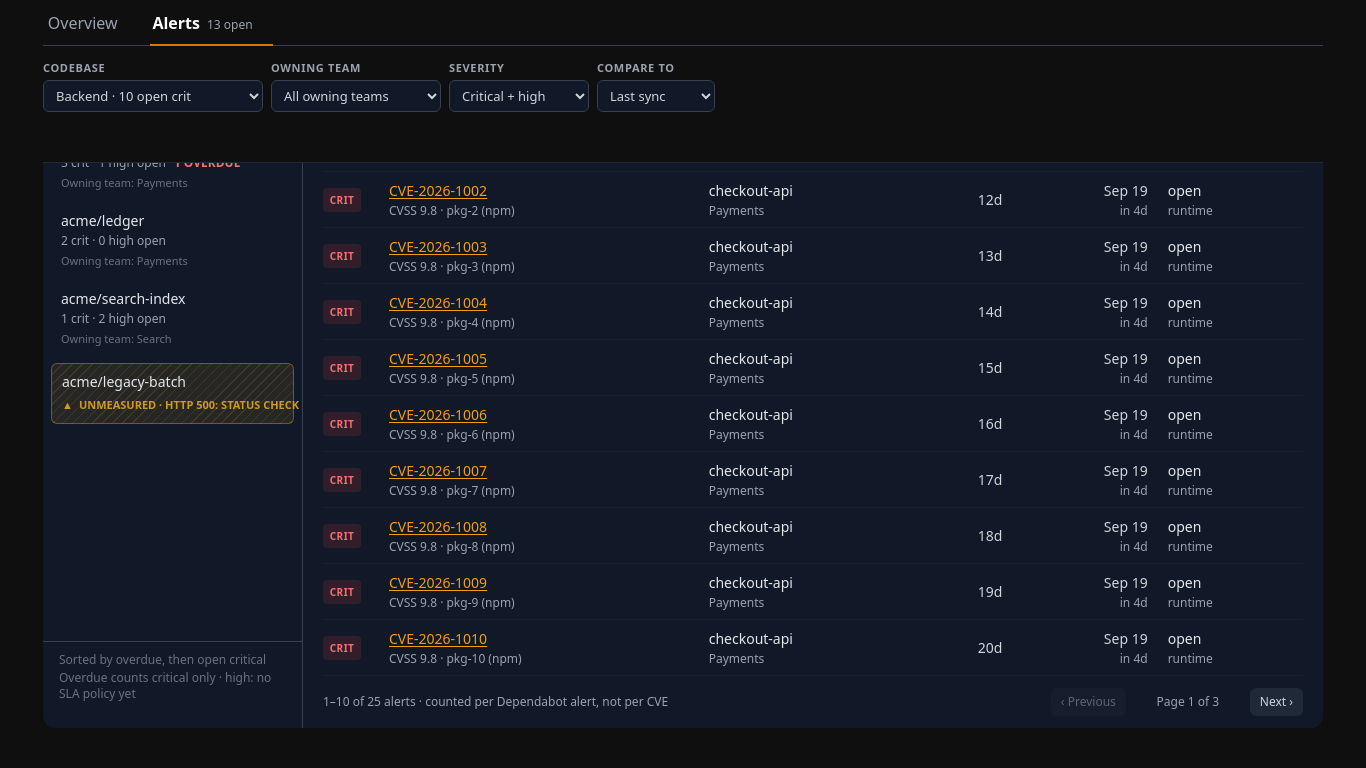
it: paging, sorting and the list parameters › a page past the end after the result shrank lands on the last page
(page scrolled)
Click the button "Next ›".
click(1276, 702)  # box [1250,688,1303,716]
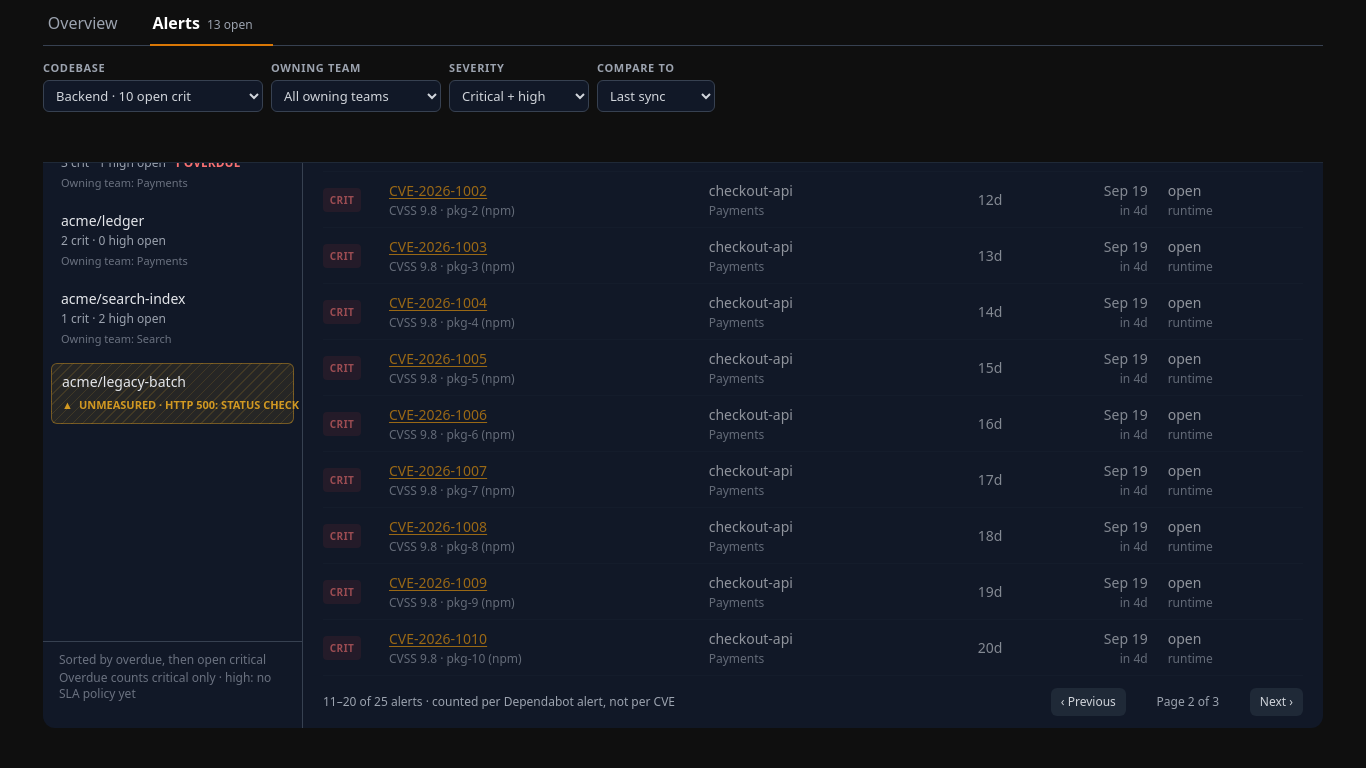
Click the button "Next ›".
click(1276, 702)  # box [1250,688,1303,716]
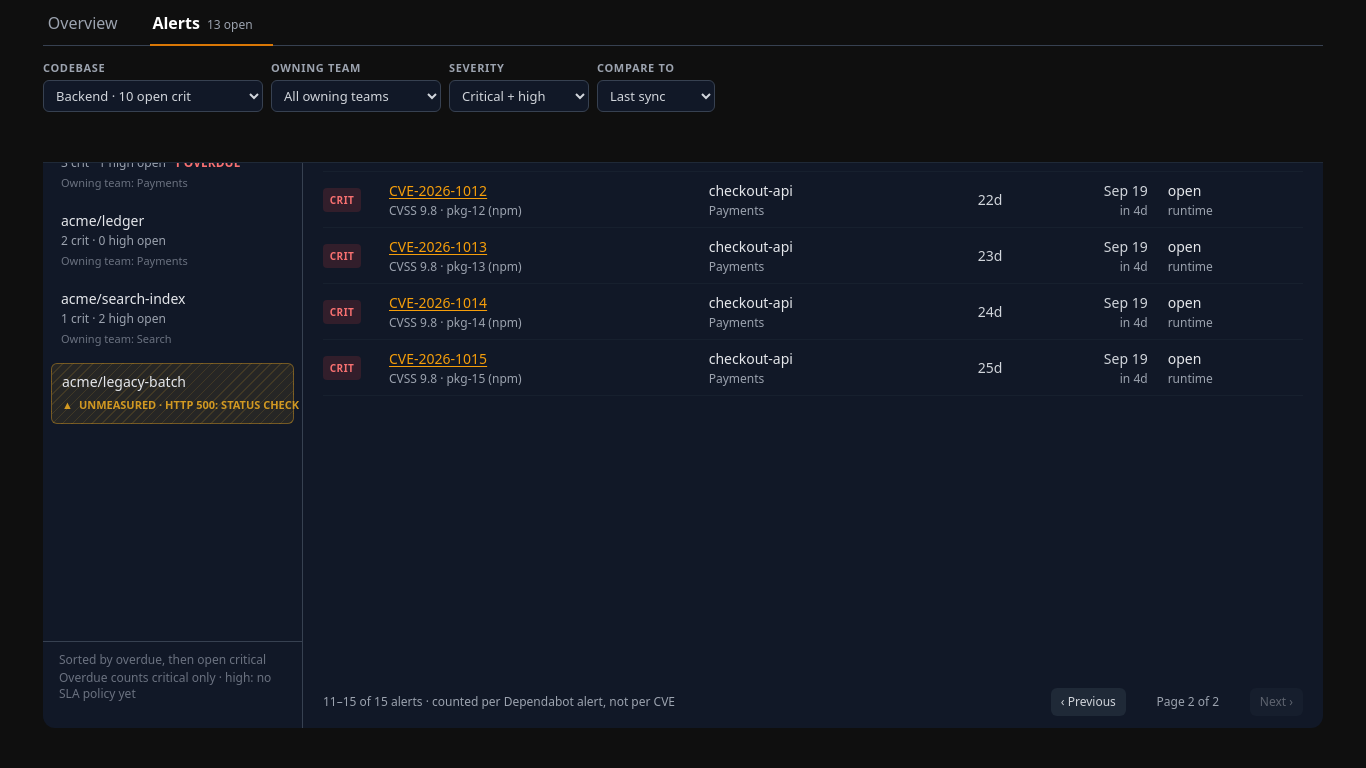
Result: the text "Page 2 of 2" is shown at [1156,693,1219,710]
